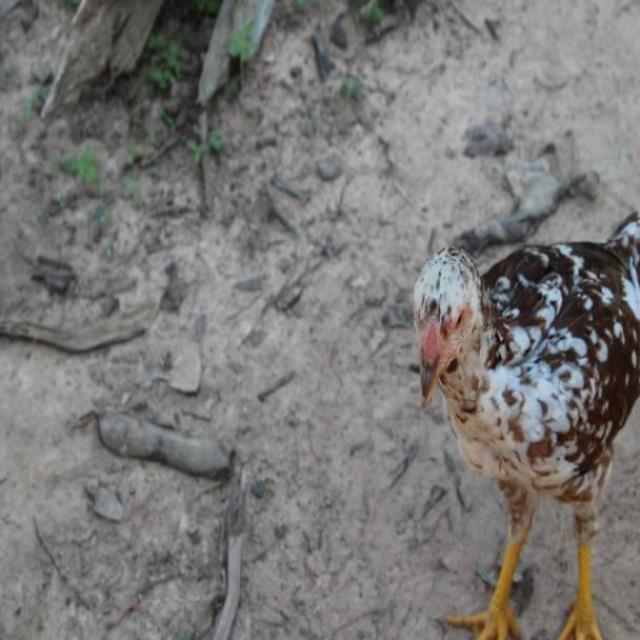Chicken: (417, 245, 640, 640)
